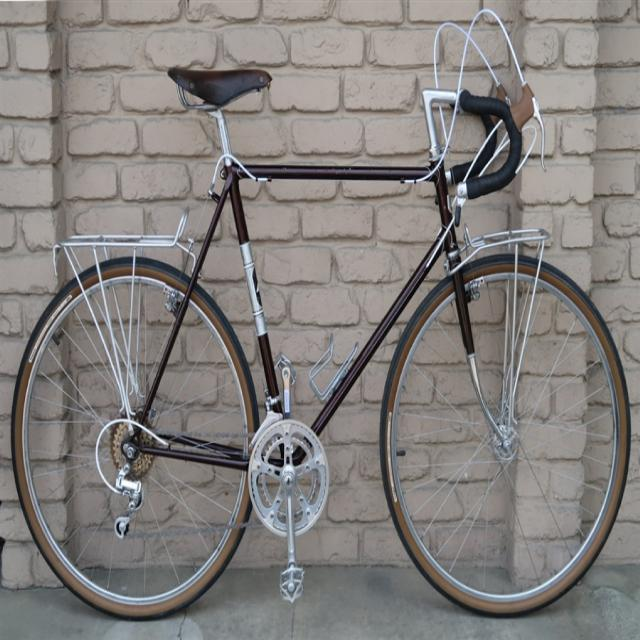road-bike: (7, 68, 633, 620)
